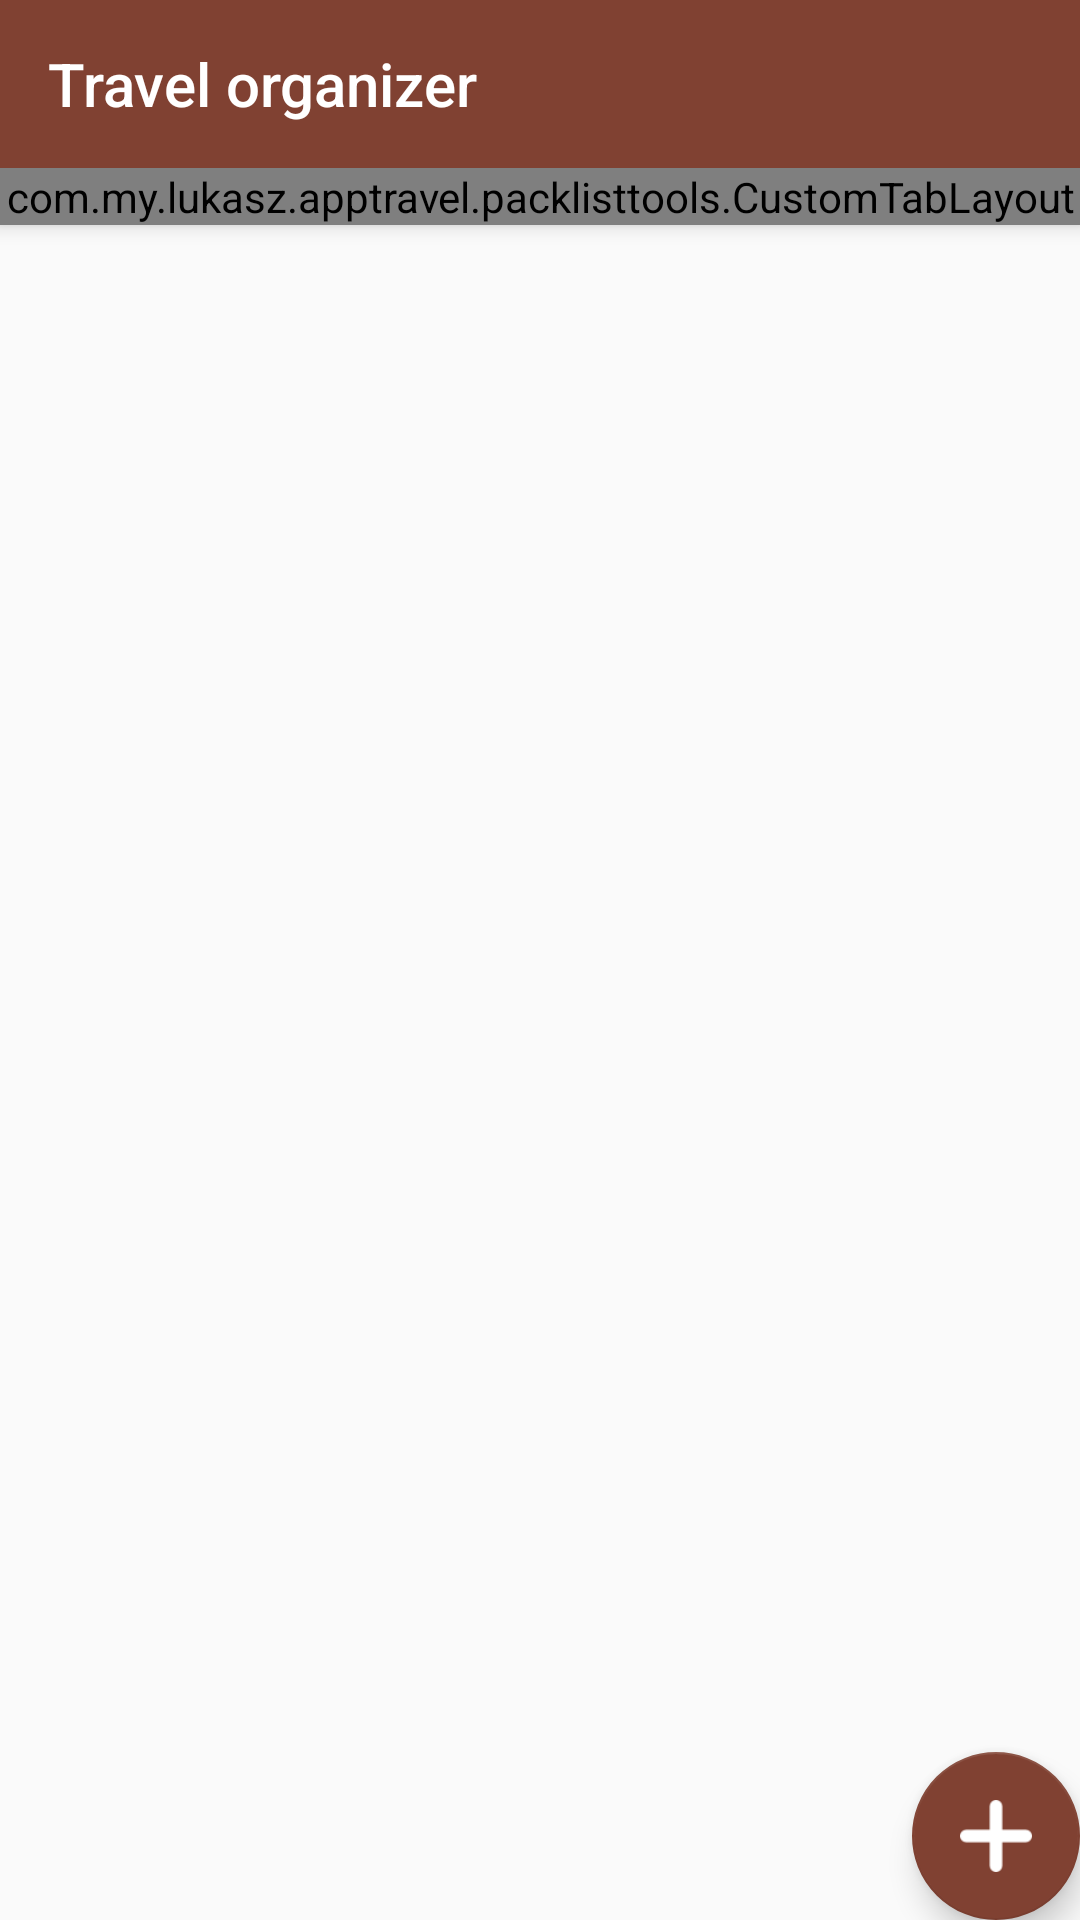

Icon bounding boxes for this 1080w x 1920h phone screenshot, format (x1, y1, x2, y2):
plusbigicon: (912, 1752, 1080, 1920)
